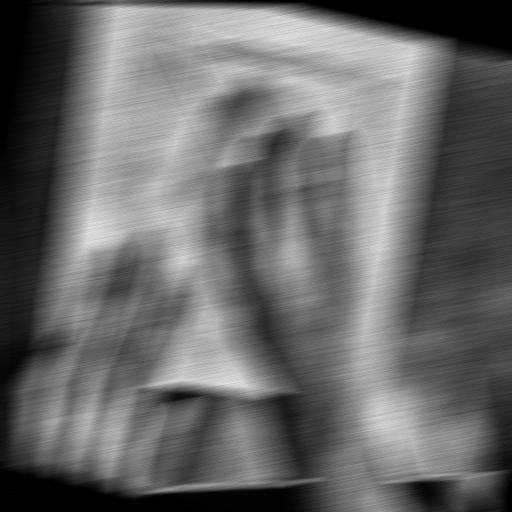bottom_left: (37, 359, 59, 371)
bottom_right: (362, 389, 386, 405)
envelop: (113, 23, 392, 361)
